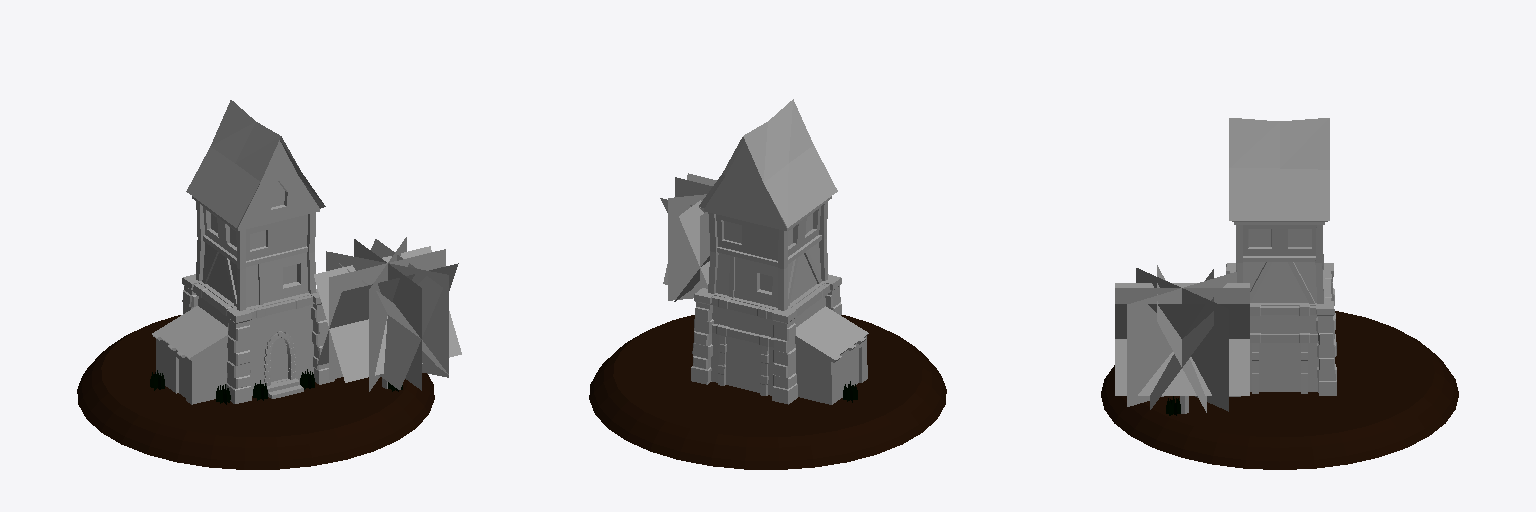
File: houserender.obj
3 views of the same model, side by side, from view 1: azimuth 30°, elevation 25°; view 2: azimuth 150°, elevation 25°; view 3: azimuth 270°, elevation 25° (orthographic).
Visible parts, largest first — view 1: Cube_Cube.001, Circle, Cylinder, Plane.001_Plane.002; view 2: Cube_Cube.001, Circle, Cylinder; view 3: Circle, Cube_Cube.001, Cylinder.
Boxes of the visible parts, x1,y1,x2,y2 form: Cube_Cube.001: [152, 100, 334, 404]; Circle: [77, 315, 434, 469]; Cylinder: [314, 237, 461, 391]; Plane.001_Plane.002: [150, 369, 402, 404]; Cube_Cube.001: [691, 99, 868, 404]; Circle: [589, 315, 946, 469]; Cylinder: [660, 173, 716, 301]; Circle: [1101, 311, 1458, 469]; Cube_Cube.001: [1226, 118, 1336, 396]; Cylinder: [1115, 265, 1249, 413].
Bounding box in the file's own units: 36.03 × 30.72 × 36.03.